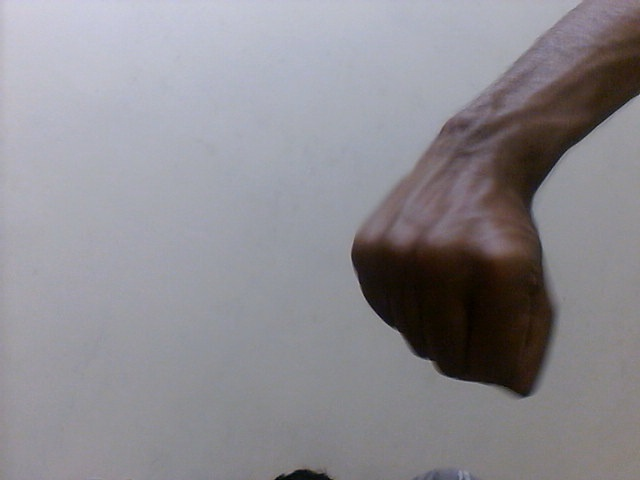hand: (345, 106, 562, 401)
